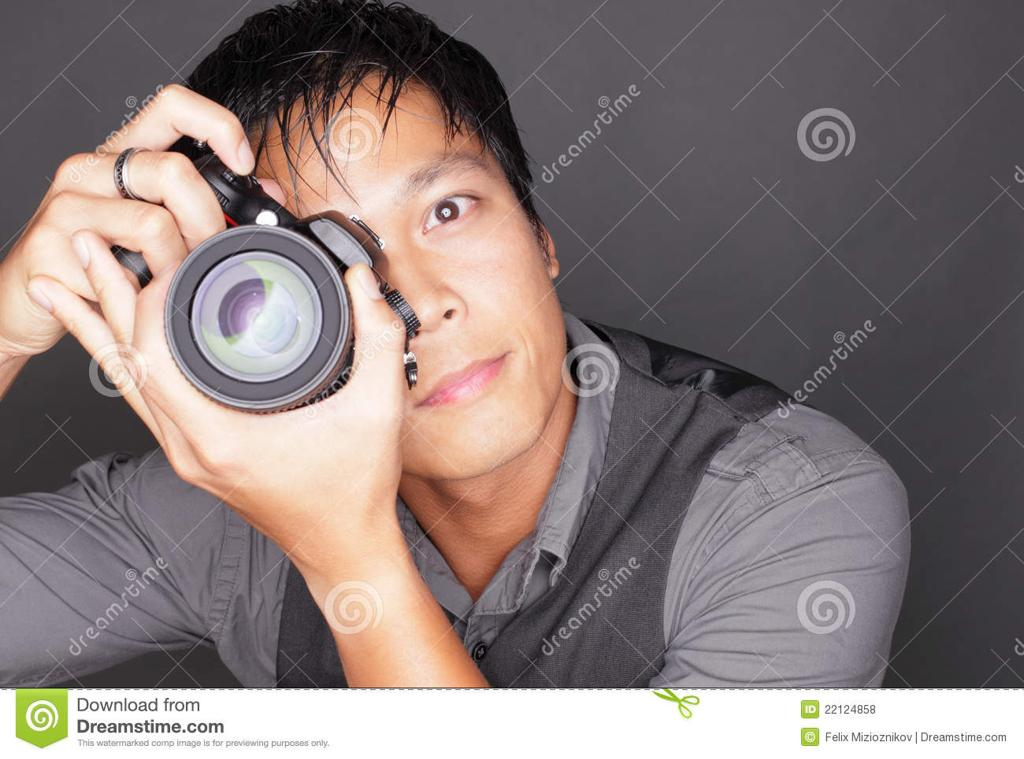face: (196, 100, 552, 480)
